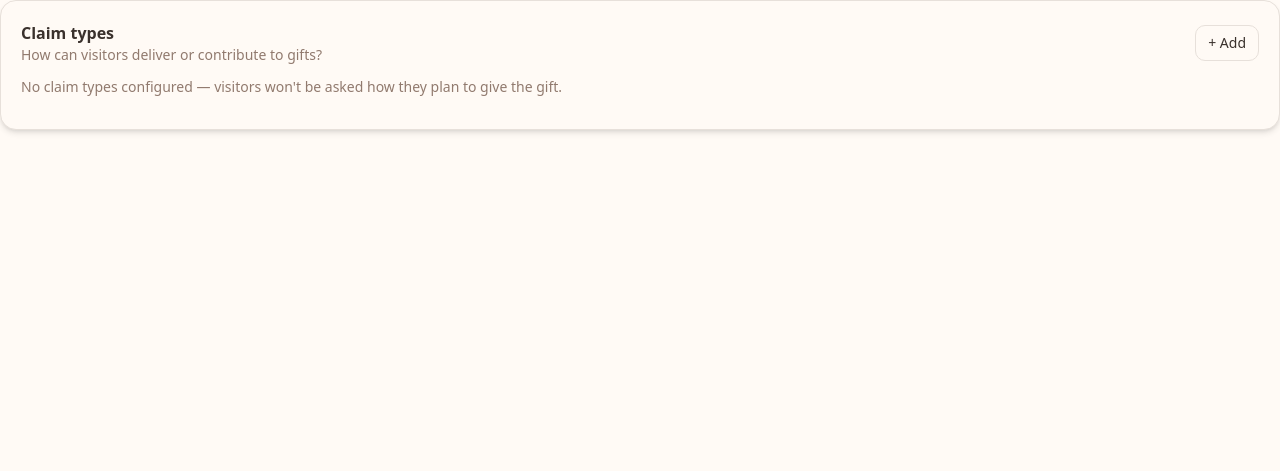
Test: DeliveryOptionsConfig › blocks submitting an EVENT claim type when no event is selected
Click the button "+ Add" at {"x": 1227, "y": 43}, box [1195,25,1259,61]
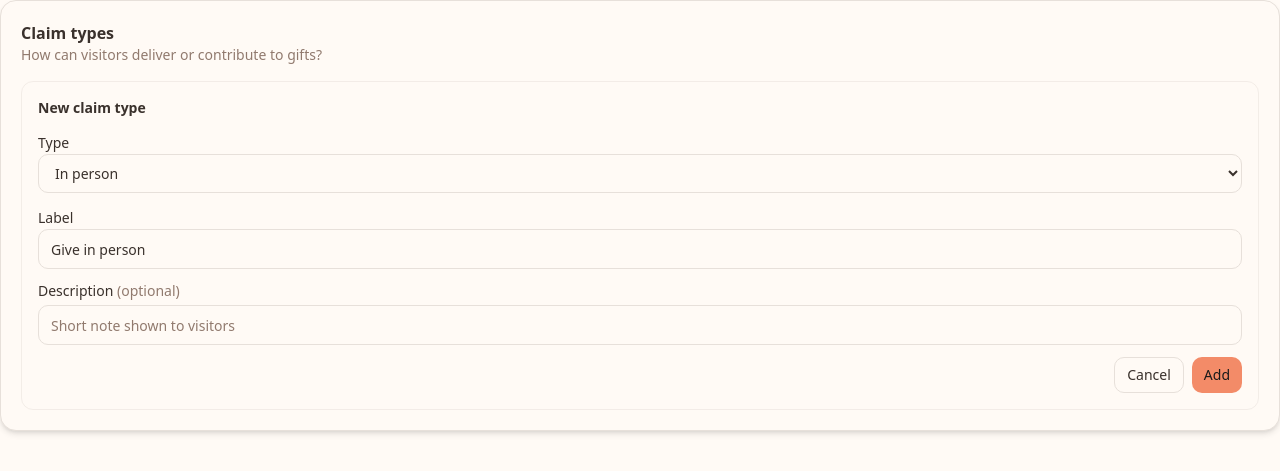
Select "Event" in the dropdown labelled "Type" at {"x": 640, "y": 174}, box [38,154,1242,193]
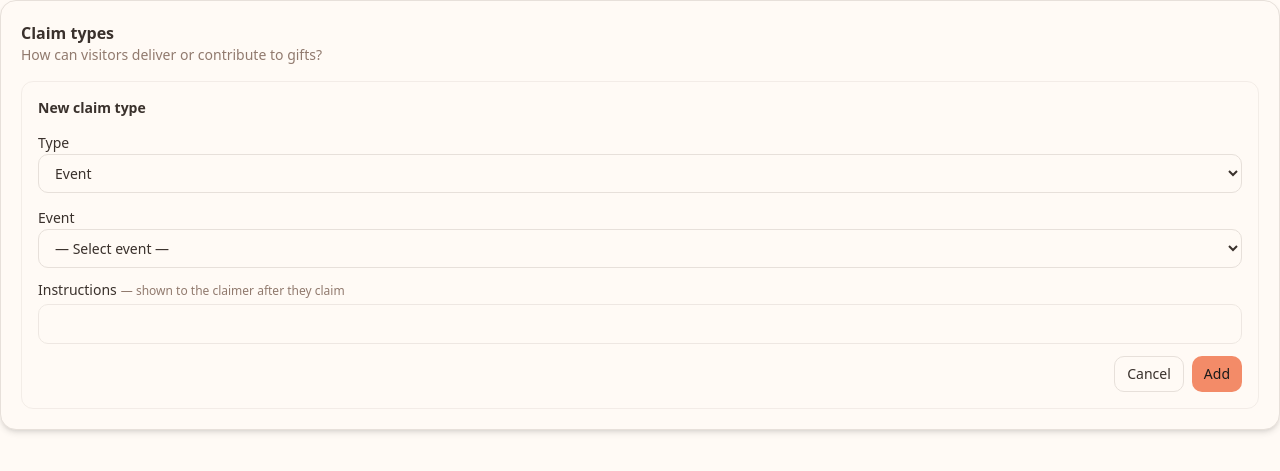
Click the button "Add" at {"x": 1217, "y": 374}, box [1192,356,1242,392]
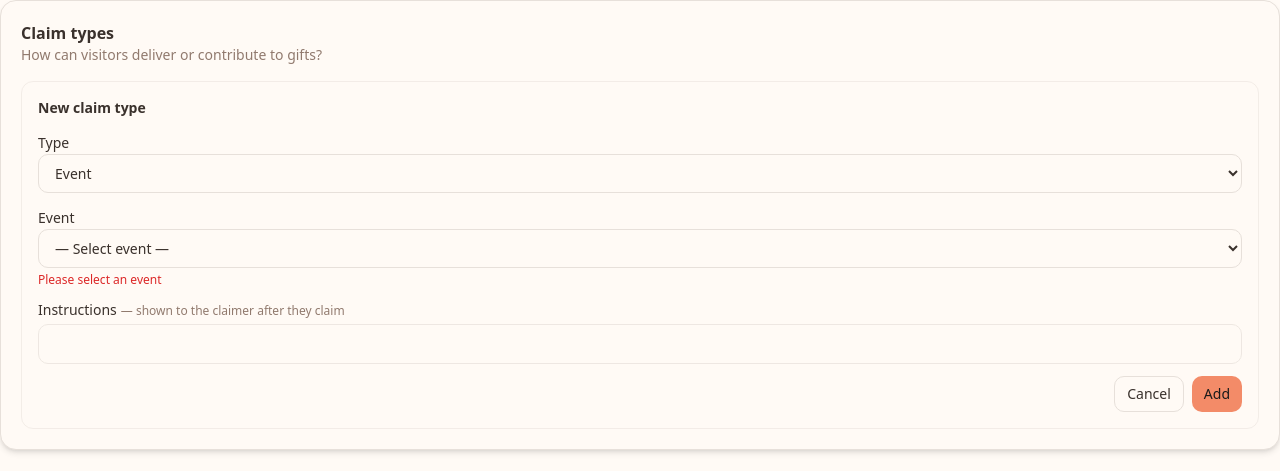
Now the text "Please select an event" is shown, box [38,271,162,288]
